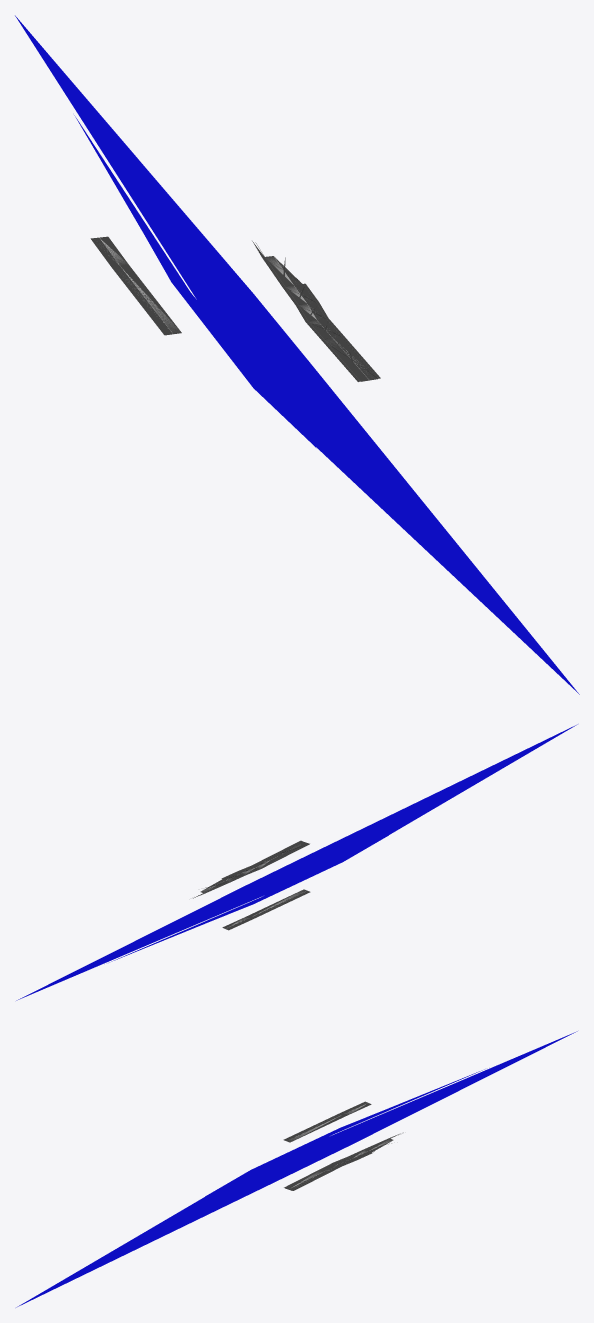
The picture shows the model from 3 angles, top to bottom: view 1: azimuth 30°, elevation 25°; view 2: azimuth 150°, elevation 25°; view 3: azimuth 330°, elevation 25°; orthographic projection. The views are drawn at different scales.
Size of the model in its own units: 121 by 0.12 by 645.
